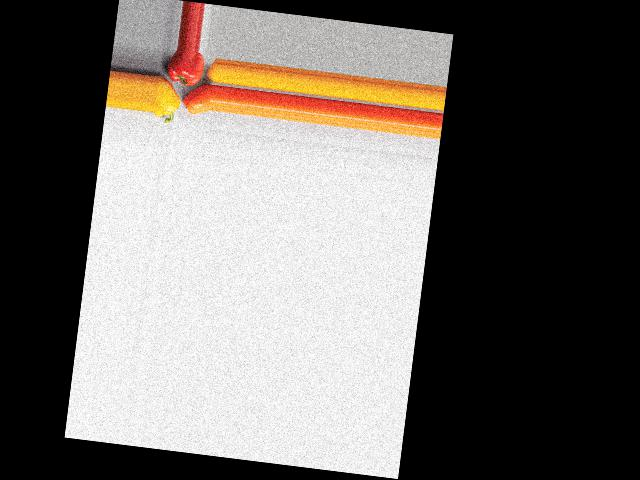bell_pepper: (163, 49, 205, 86)
